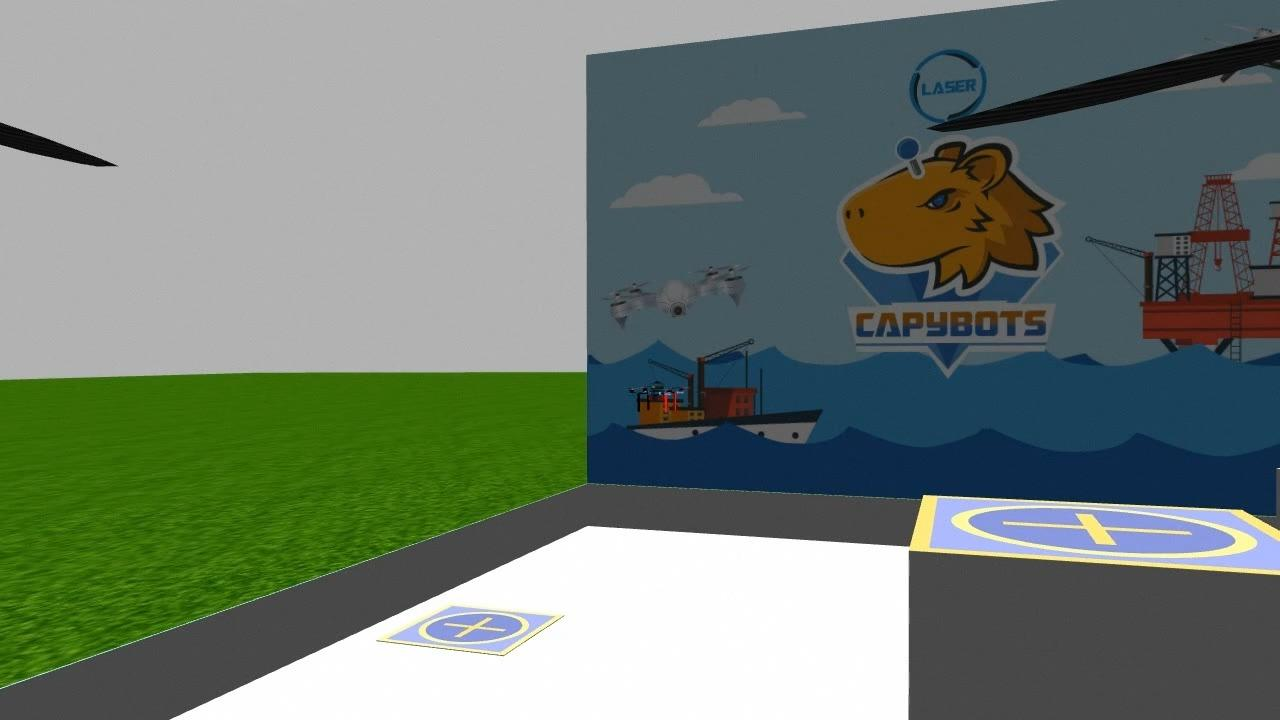UAV: (620, 374, 698, 424)
